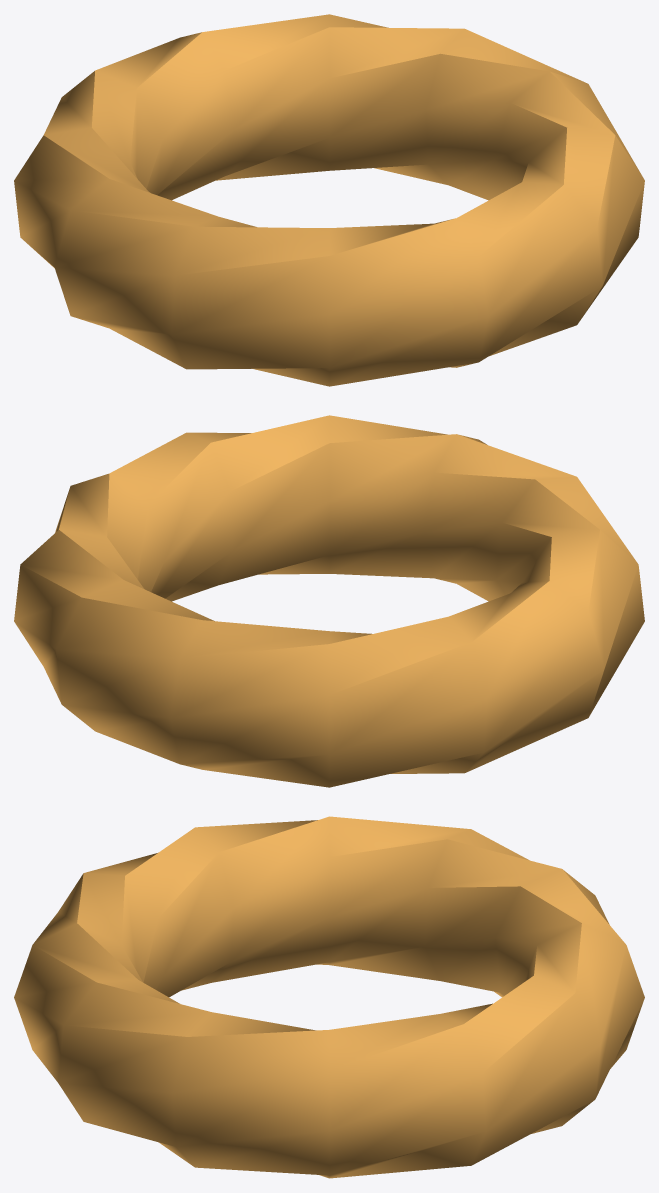
File: TwistedTorus_03.fbx
The picture shows the model from 3 angles, top to bottom: view 1: azimuth 30°, elevation 25°; view 2: azimuth 150°, elevation 25°; view 3: azimuth 270°, elevation 25°; orthographic projection.
Visible parts, largest first — view 1: TwistedTorus_03; view 2: TwistedTorus_03; view 3: TwistedTorus_03.
Boxes of the visible parts, x1,y1,x2,y2 form: TwistedTorus_03: (14, 14, 644, 386); TwistedTorus_03: (14, 415, 644, 787); TwistedTorus_03: (14, 816, 644, 1178).
Size of the model in its own units: 375 by 97.5 by 375.
